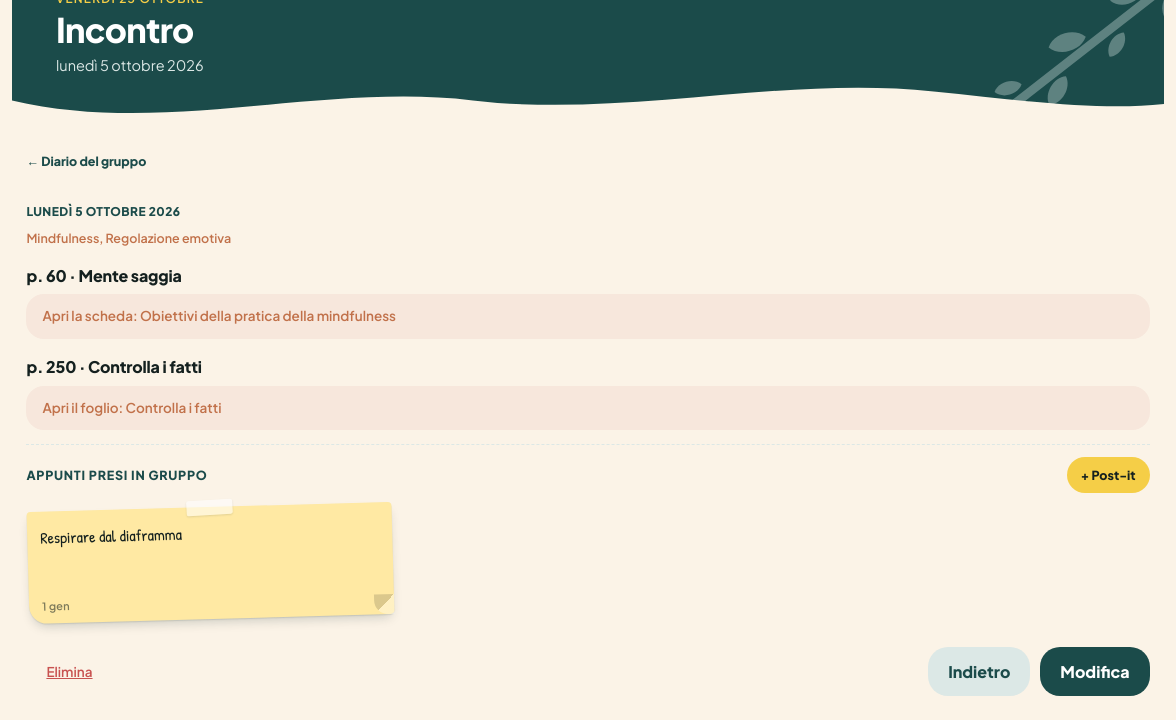
Test: Diario del gruppo › si elimina con conferma, togliendo anche i post-it dell'incontro
(page scrolled)
Expected: the heading "p. 60 · Mente saggia" is shown, [26, 265, 182, 286]
Click the button "Elimina" at (70, 671), box [26, 649, 113, 694]
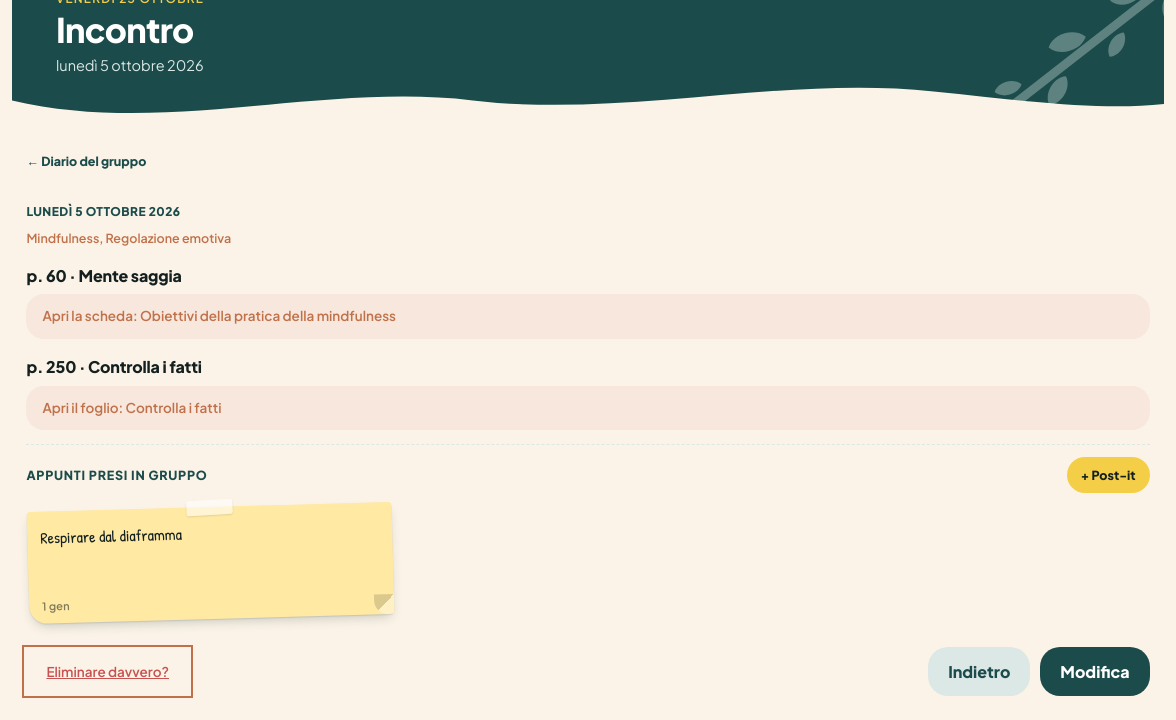
Click the button "Eliminare davvero?" at (108, 671), box [26, 649, 189, 694]
(page scrolled)
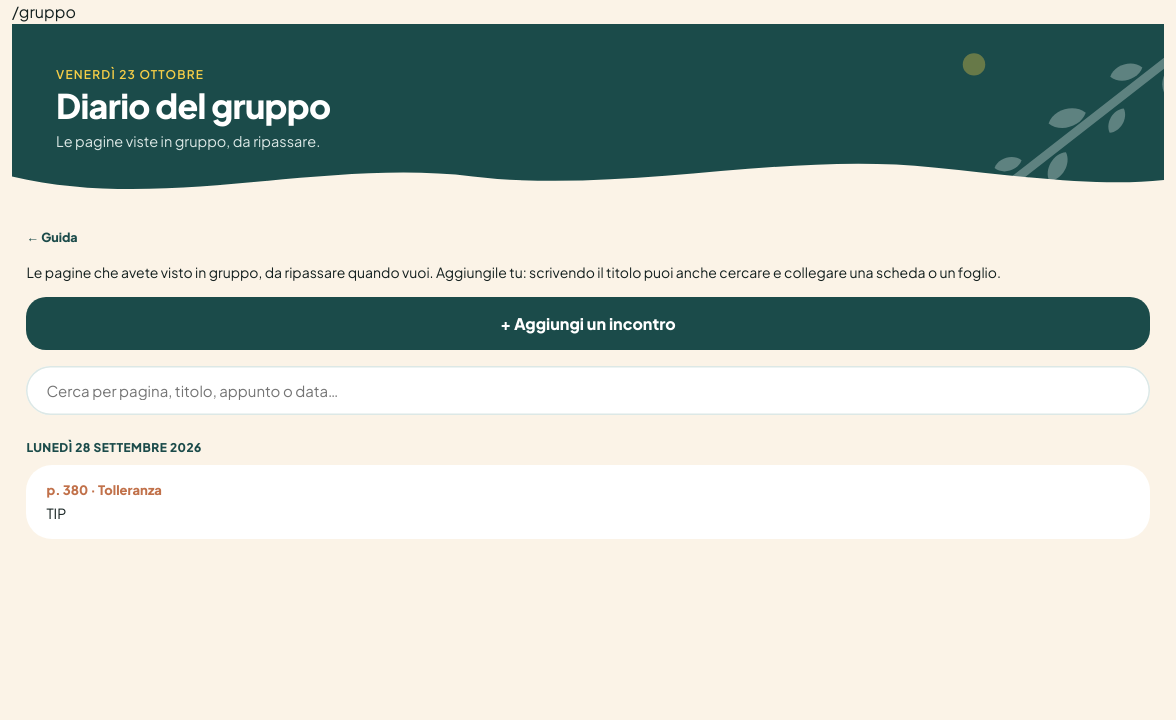
Expected: the text with test id "percorso" reads "/gruppo", [12, 1, 76, 22]
